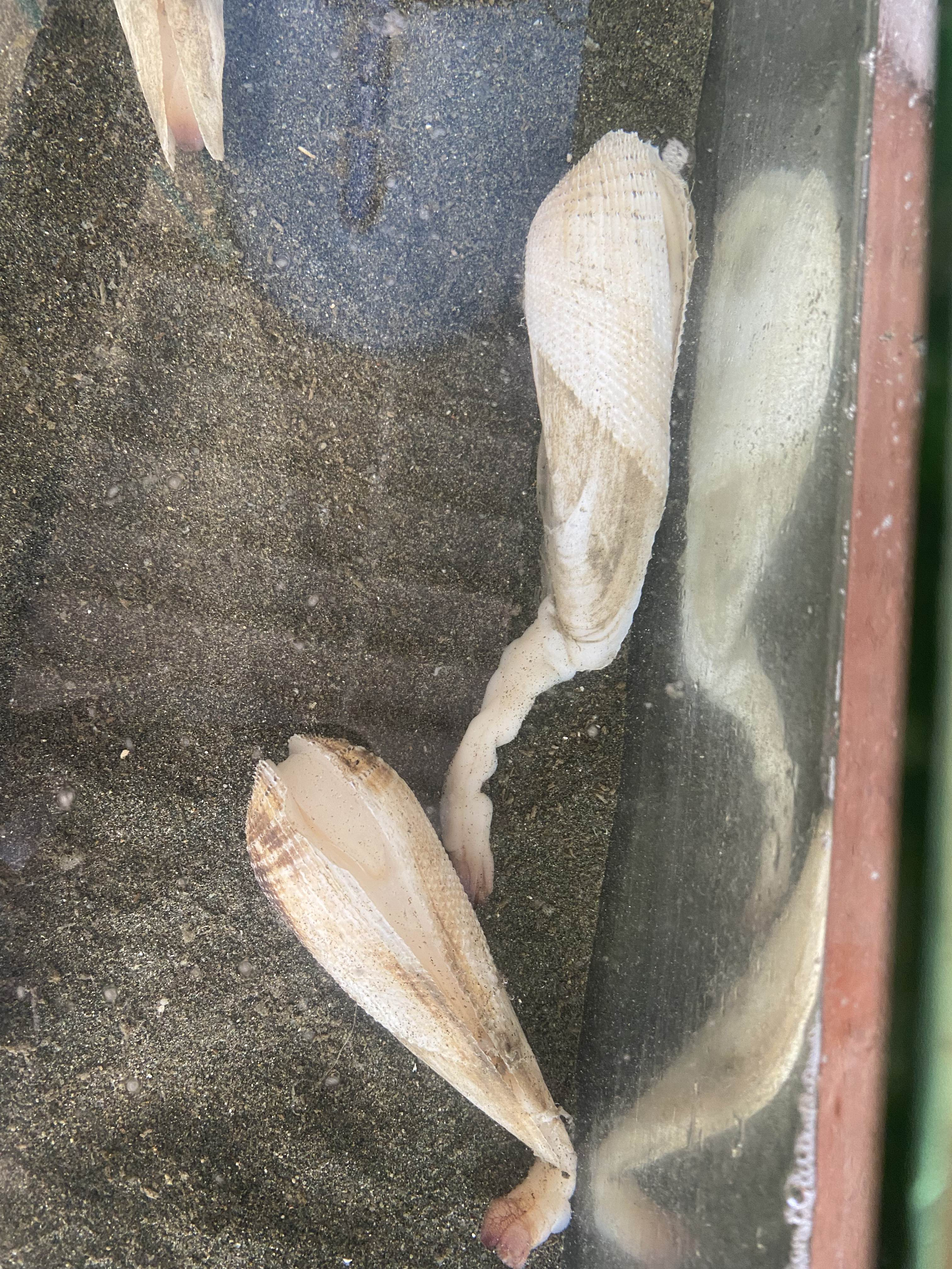At risk: (246, 133, 695, 1269), (116, 0, 224, 166)
